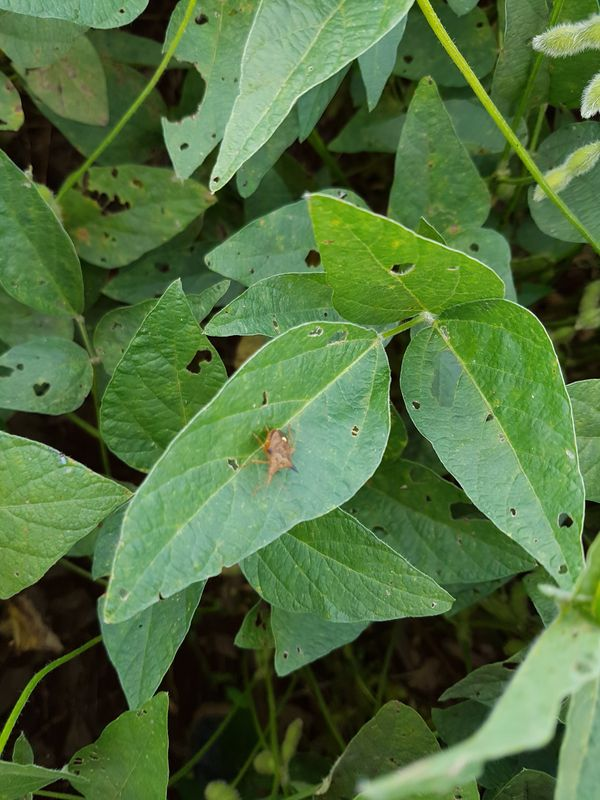Euschistus_heros_adulto: (243, 418, 307, 487)
